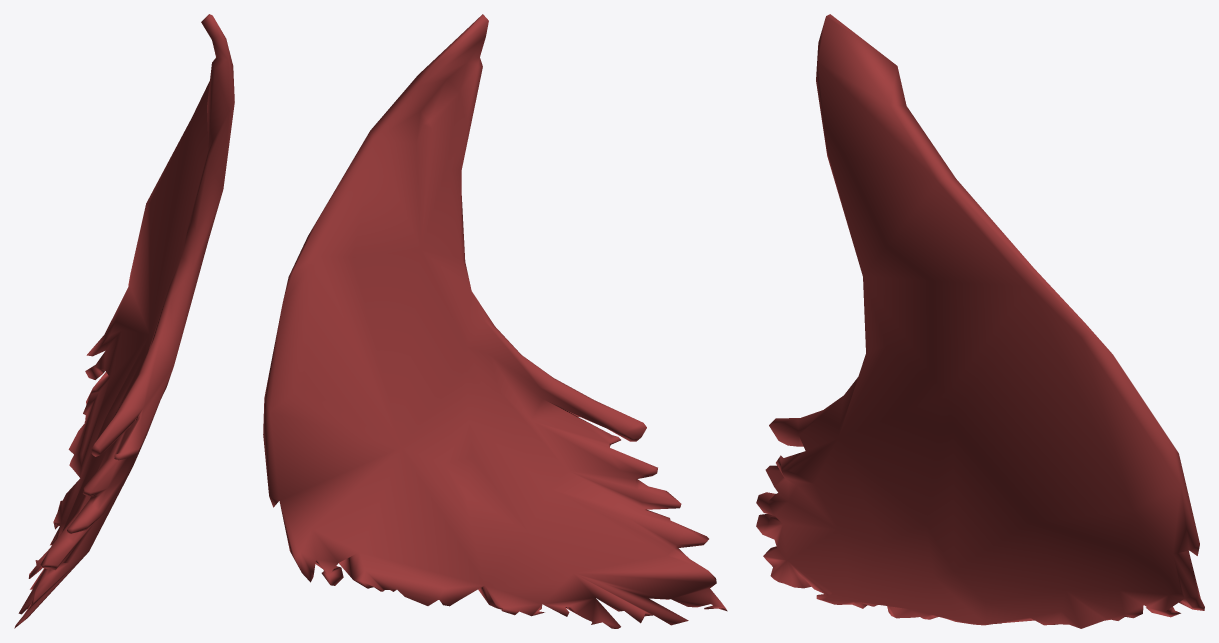
File: depressor-anguli-oris-l.glb
3 renders of one model, left to right at view 1: azimuth 30°, elevation 25°; view 2: azimuth 150°, elevation 25°; view 3: azimuth 270°, elevation 25°, orthographic. The views are drawn at different scales.
Visible parts, largest first — view 1: Depressor anguli oris.l; view 2: Depressor anguli oris.l; view 3: Depressor anguli oris.l.
Boxes of the visible parts, bbox=[...] form: Depressor anguli oris.l: bbox=[14, 14, 234, 628]; Depressor anguli oris.l: bbox=[263, 14, 727, 628]; Depressor anguli oris.l: bbox=[756, 14, 1204, 628].
Bounding box in the file's own units: 0.0243 × 0.0417 × 0.024.
